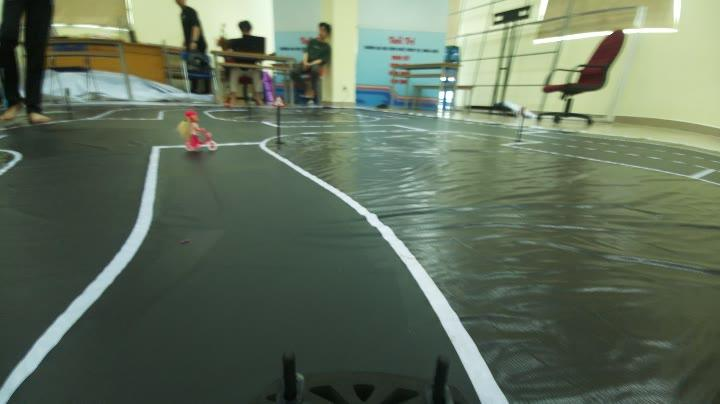pedestrian: (168, 106, 230, 162)
